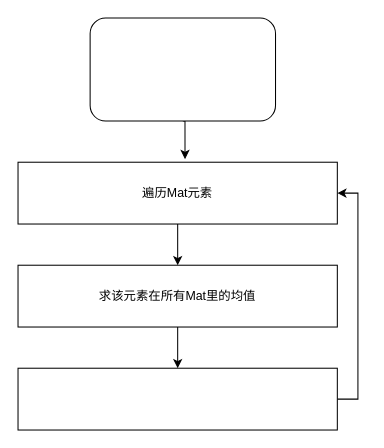
This 384x448 diagram has some shape labels left out. The centre of each missing label's shape, as x and y in pixels:
由该位置均值求出该位置元素的方差: [177,398]
输入Mat样本的vector: [182,69]
